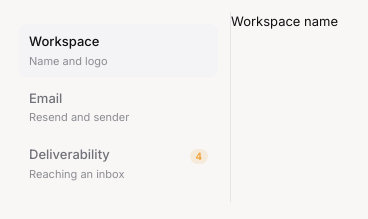
Test: SettingsTabs › switches panels without leaving the page
Click the tab "Deliverability Reaching an inbox 4": {"x": 118, "y": 164} [19,137,218,190]
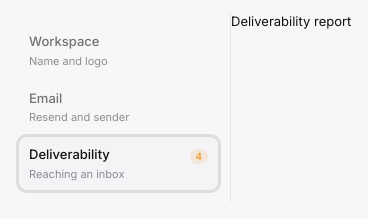
Check: the text "Deliverability report" is shown, box [231,13,351,29]
